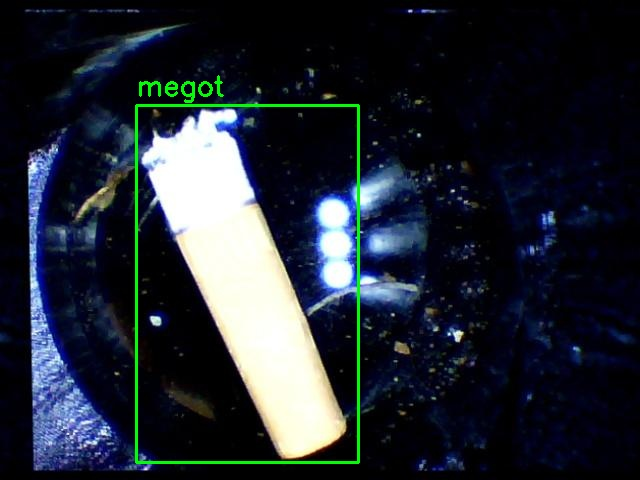megot: (136, 105, 358, 462)
